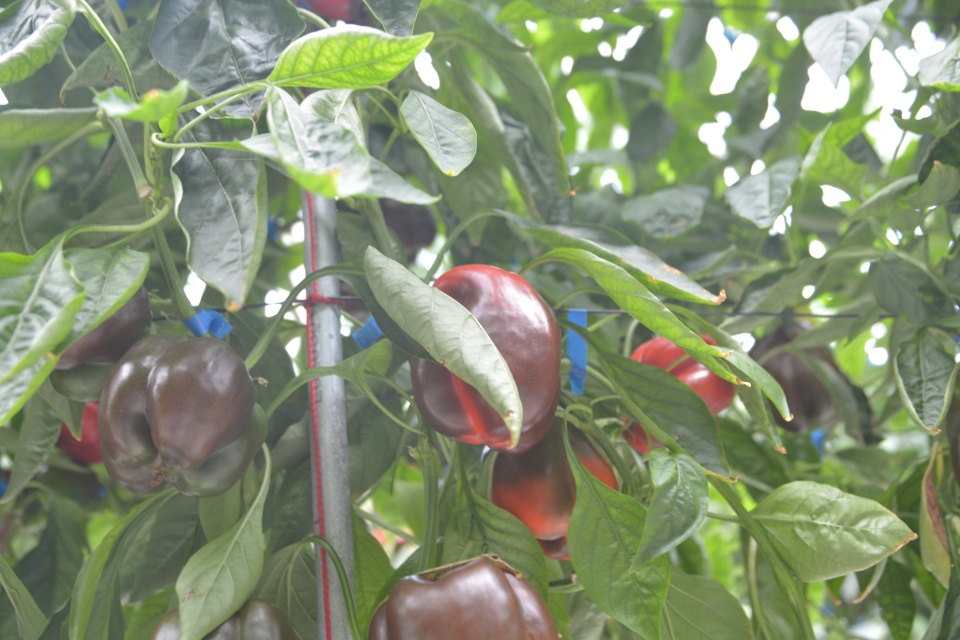fruit: (406, 260, 562, 456), (96, 334, 268, 499), (491, 414, 622, 563), (364, 557, 560, 640), (622, 332, 736, 456), (336, 188, 439, 314), (47, 282, 153, 400), (748, 323, 844, 432), (147, 597, 301, 640), (52, 396, 104, 466)
